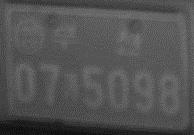0: (12, 63, 38, 105), (106, 67, 130, 112)
5: (81, 64, 105, 108)
7: (37, 61, 63, 109)
8: (156, 74, 183, 116)
9: (132, 70, 155, 115)
가: (62, 71, 82, 105)
부산_D: (52, 18, 144, 60)
영: (15, 17, 45, 55)
